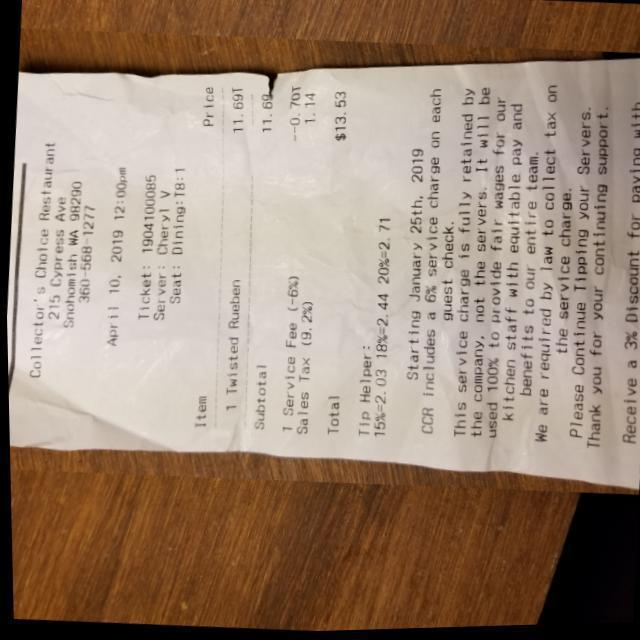Paper: (0, 12, 640, 512)
